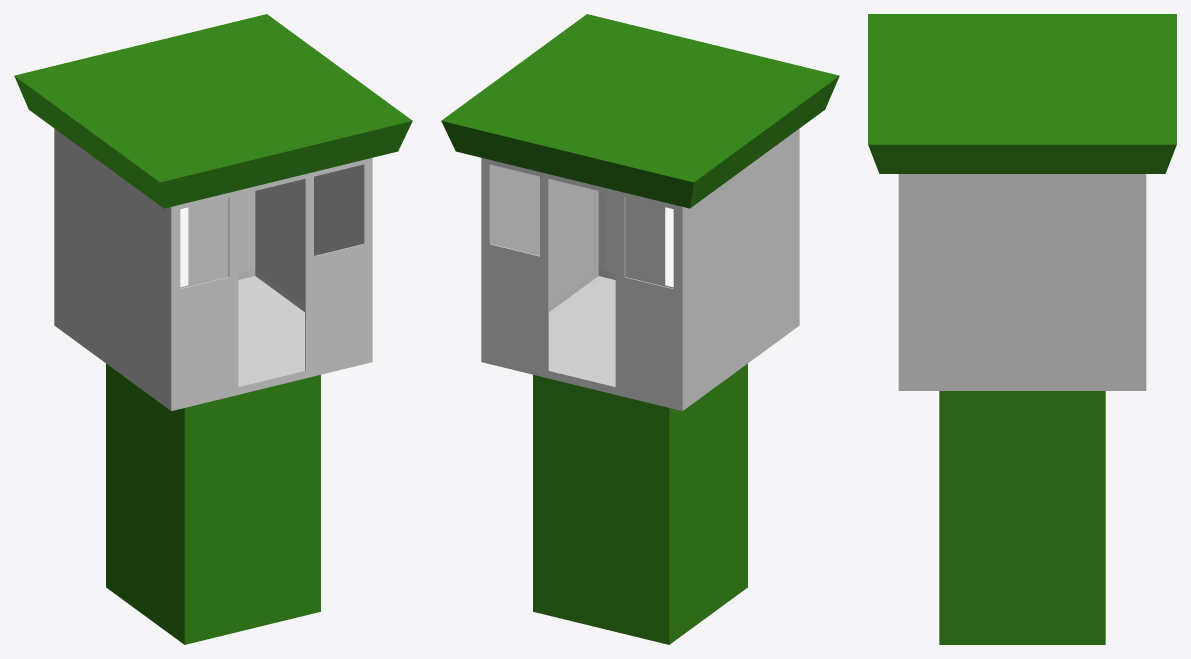
File: Cabin.fbx
3 renders of one model, left to right at view 1: azimuth 30°, elevation 25°; view 2: azimuth 150°, elevation 25°; view 3: azimuth 270°, elevation 25°, orthographic. The views are drawn at different scales.
Parts seen in each view (by area): view 1: Cube.002, Cube.001, Cube.003; view 2: Cube.002, Cube.001, Cube.003; view 3: Cube.002, Cube.003, Cube.001.
Boxes of the visible parts, x1=… form: Cube.002: x1=54, y1=128, x2=372, y2=410; Cube.001: x1=106, y1=363, x2=320, y2=644; Cube.003: x1=14, y1=14, x2=412, y2=208; Cube.002: x1=481, y1=128, x2=799, y2=410; Cube.001: x1=533, y1=363, x2=747, y2=644; Cube.003: x1=441, y1=14, x2=839, y2=208; Cube.002: x1=898, y1=174, x2=1146, y2=390; Cube.003: x1=868, y1=14, x2=1176, y2=173; Cube.001: x1=939, y1=391, x2=1105, y2=644.
Bounding box in the file's own units: 904 × 1713 × 904.
